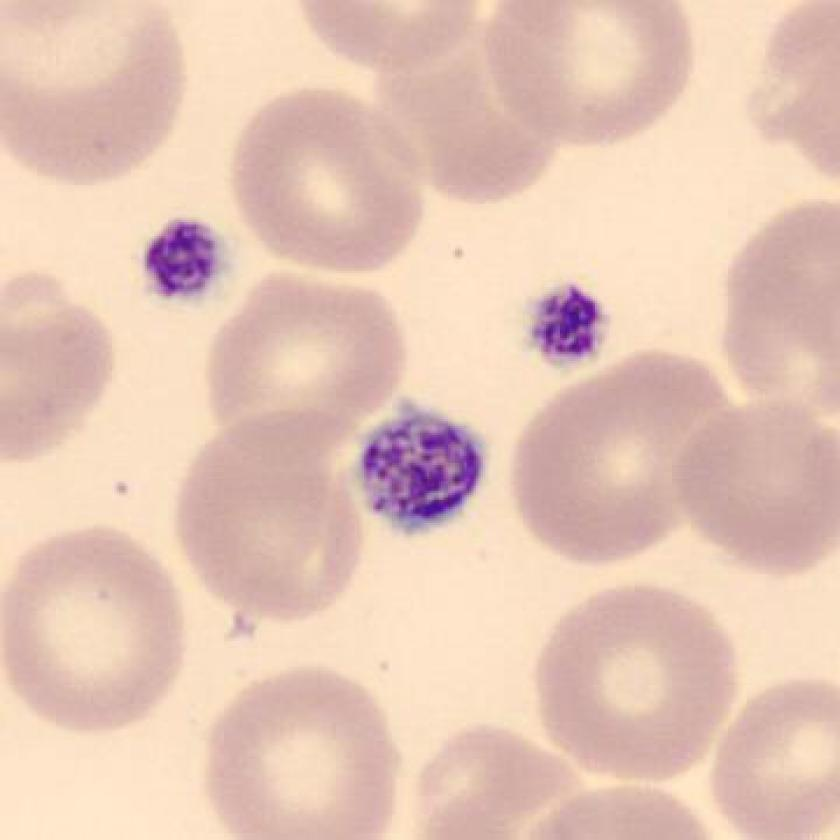platelets: (349, 399, 491, 552), (134, 212, 232, 316), (512, 279, 617, 376)
